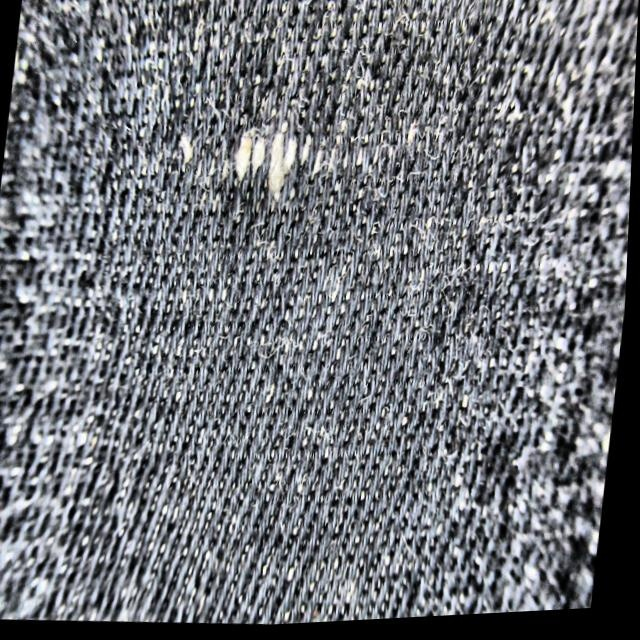Hole: (203, 94, 352, 225)
